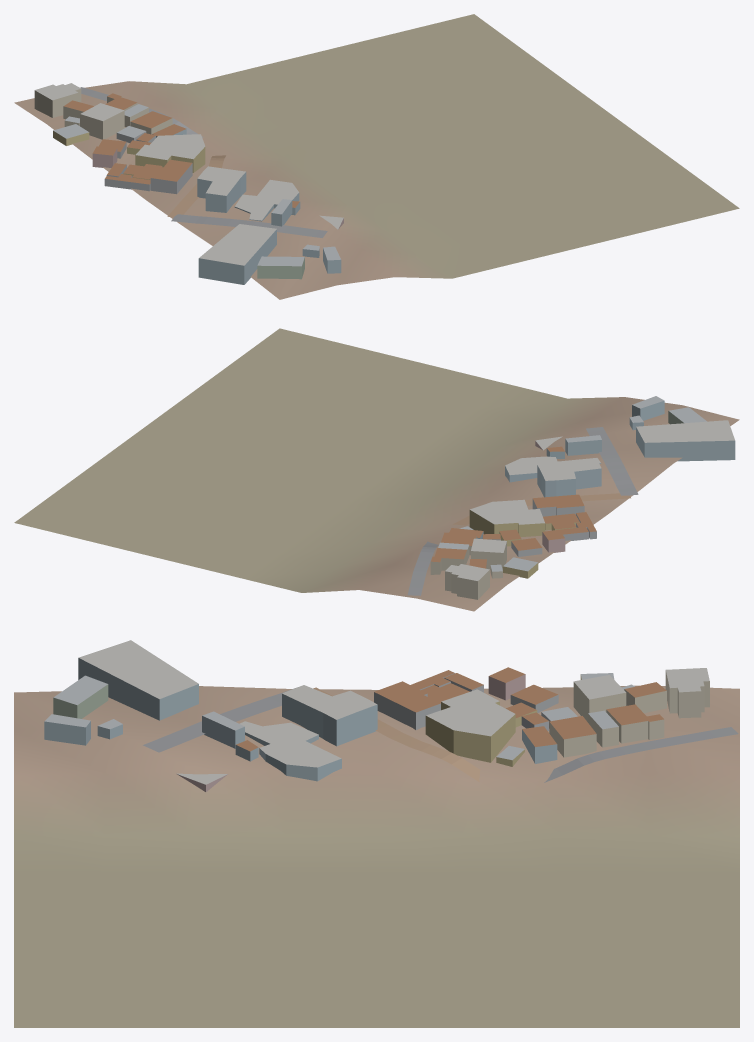
The picture shows the model from 3 angles, top to bottom: view 1: azimuth 30°, elevation 25°; view 2: azimuth 150°, elevation 25°; view 3: azimuth 270°, elevation 25°; orthographic projection. The views are drawn at different scales.
Parts seen in each view (by area): view 1: Lo; view 2: Lo; view 3: Lo.
Part boxes in pixels (left/top/right/bottom): Lo: left=14, top=14, right=739, bottom=299; Lo: left=14, top=328, right=739, bottom=611; Lo: left=14, top=640, right=739, bottom=1027.
Bounding box in the file's own units: 277 × 23.12 × 256.
